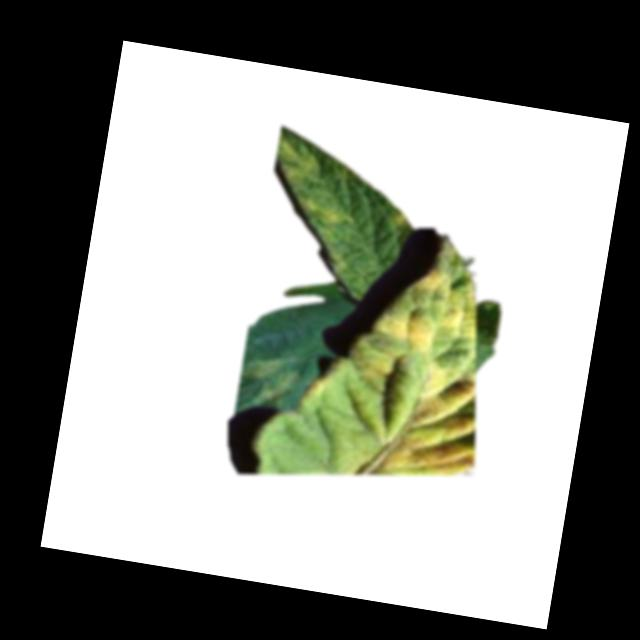Leaf_Mold: (293, 249, 506, 492), (296, 193, 353, 228)
